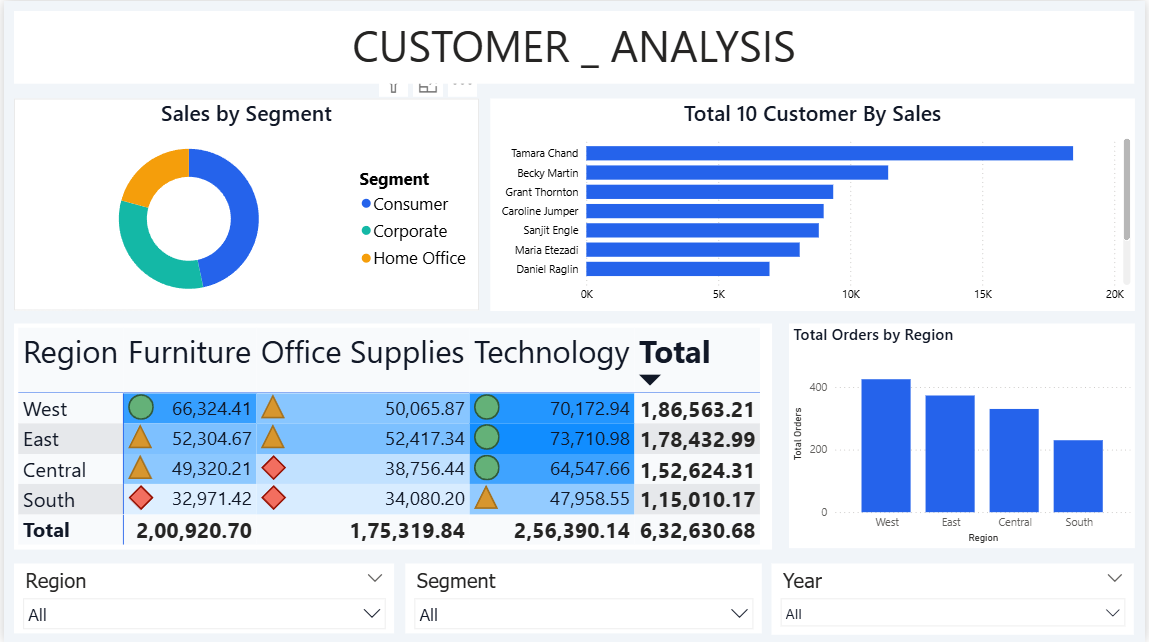

Layout of this report page (visuals, bound fields, positions):
{"tool":"powerbi","page":{"name":"CUSTOMER_ANALYSIS","canvas":[1280,720],"ordinal":3},"visuals":[{"type":"donutChart","title":"Sales by Segment","fields":{"Y":["ALL_MEASURES.Total Sales"],"Category":["Sample - Superstore.Segment"]},"box":[11.7,110,521.7,238.3],"z":0},{"type":"clusteredBarChart","title":"Total 10 Customer By  Sales","fields":{"Y":["ALL_MEASURES.Total Sales"],"Category":["Sample - Superstore.Customer Name"]},"box":[545,110,723.3,238.3],"z":1000},{"type":"clusteredColumnChart","fields":{"Category":["Sample - Superstore.Region"],"Y":["ALL_MEASURES.Total Orders"]},"box":[880,361.7,388.3,251.7],"z":2000},{"type":"pivotTable","fields":{"Rows":["Sample - Superstore.Region"],"Columns":["Sample - Superstore.Category"],"Values":["ALL_MEASURES.Total Sales"]},"box":[11.7,361.7,850,253.3],"z":3000},{"type":"slicer","fields":{"Values":["Sample - Superstore.Region"]},"box":[11.7,631.7,426.7,78.3],"z":4000},{"type":"slicer","fields":{"Values":["Sample - Superstore.Segment"]},"box":[450,631.7,400,78.3],"z":5000},{"type":"slicer","fields":{"Values":["Sample - Superstore.Ship Date.Variation.Date Hierarchy.Year"]},"box":[861.7,631.7,406.7,80],"z":6000},{"type":"textbox","box":[11.7,11.7,1256.7,81.7],"z":7000}]}

Visuals, with their boxes in screenshot pixels (x1, y1, x2, y2), scaled from the page's 1280x720 canvas onto the 1149x642 screenshot:
"Sales by Segment" donutChart: x1=11, y1=98, x2=479, y2=311
"Total 10 Customer By  Sales" clusteredBarChart: x1=489, y1=98, x2=1138, y2=311
clusteredColumnChart - Sample - Superstore.Region x ALL_MEASURES.Total Orders: x1=790, y1=323, x2=1138, y2=547
pivotTable - Sample - Superstore.Region x Sample - Superstore.Category: x1=11, y1=323, x2=774, y2=548
slicer - Sample - Superstore.Region: x1=11, y1=563, x2=394, y2=633
slicer - Sample - Superstore.Segment: x1=404, y1=563, x2=763, y2=633
slicer - Sample - Superstore.Ship Date.Variation.Date Hierarchy.Year: x1=774, y1=563, x2=1139, y2=635
textbox: x1=11, y1=10, x2=1139, y2=83
